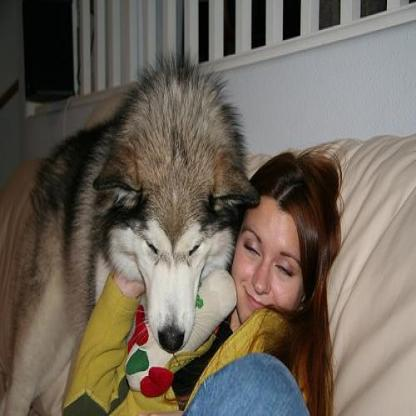malamute: (1, 50, 263, 413)
